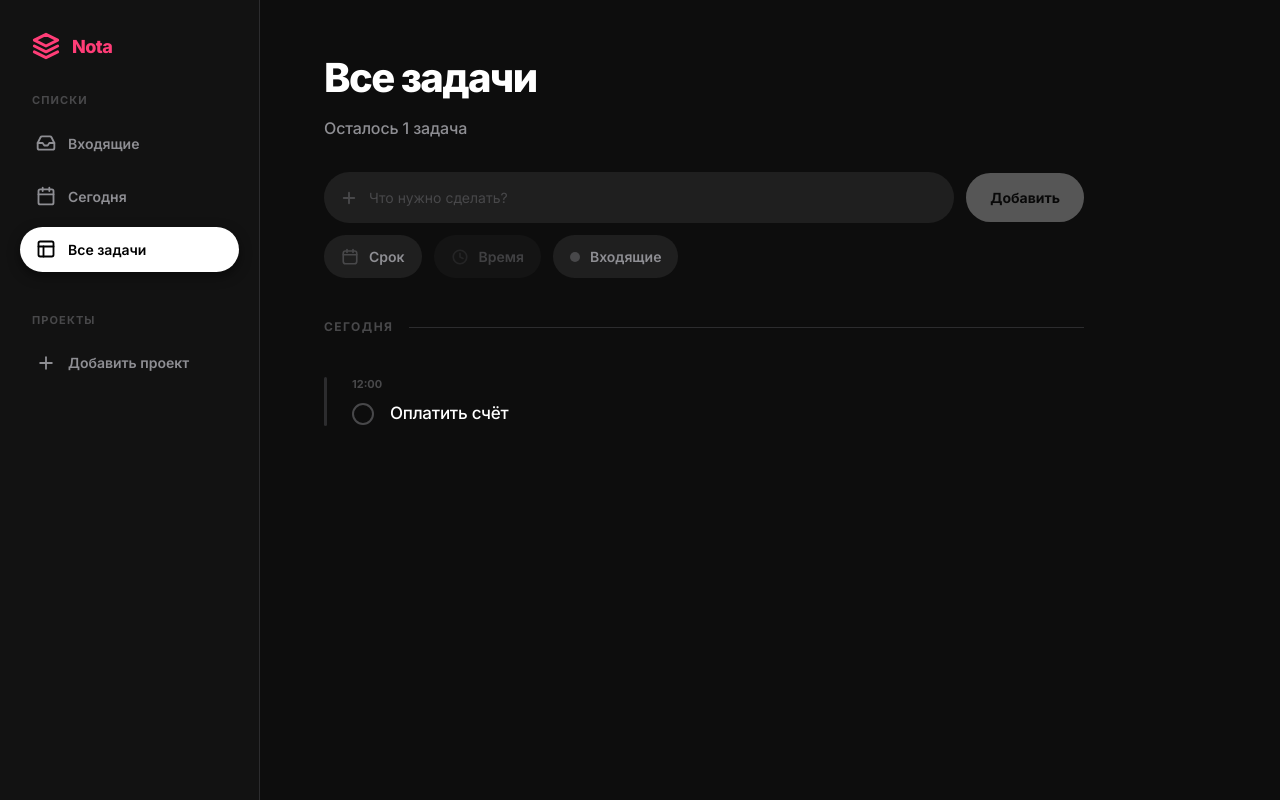
it: отметка выполнения › не теряет срок задачи, вернувшейся из попапа
This screenshot has width=1280, height=800.
Click the checkbox named "Оплатить счёт" at (363, 414), box [352,403,374,425]
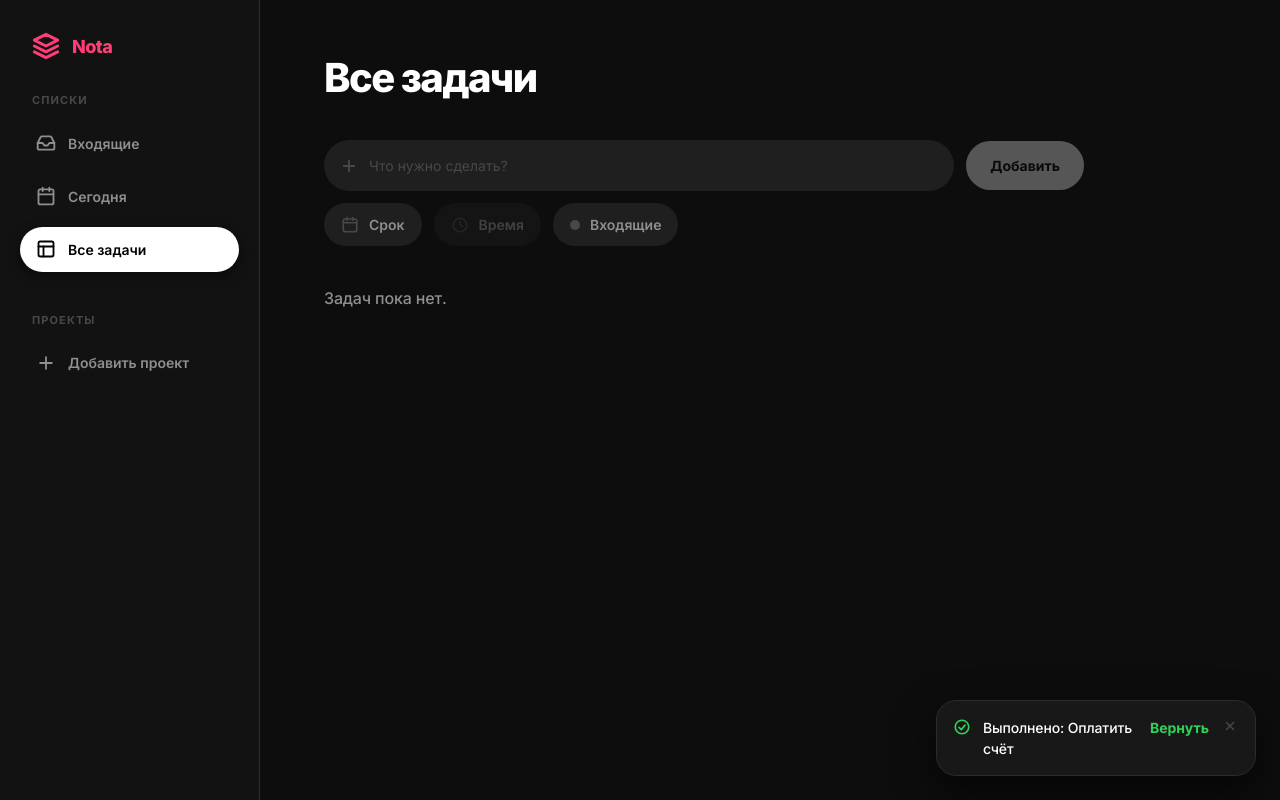
Click the button "Вернуть" at (1179, 728), box [1150,717,1209,738]
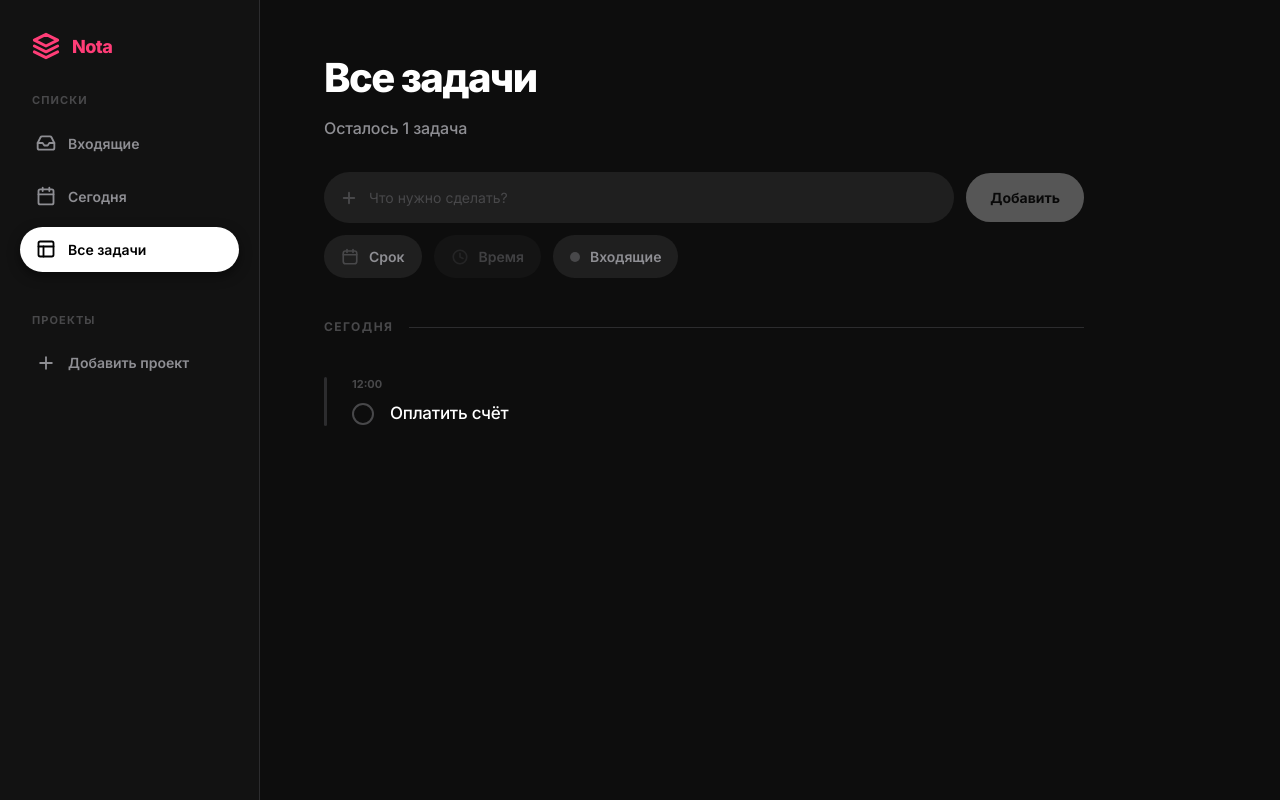
Now the checkbox named "Оплатить счёт" is shown, box [352,403,374,425]
Now the button "12:00" is shown, box [344,373,390,396]
Now the heading "Сегодня" is shown, box [324,319,393,334]
